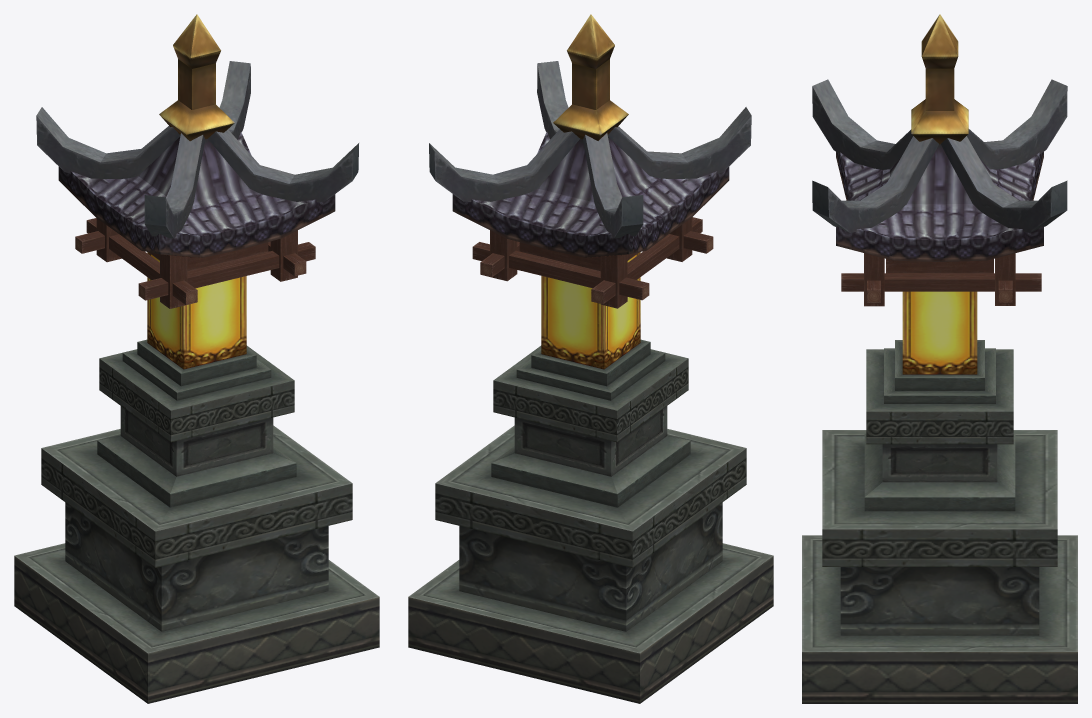
Rendered from deng_009.FBX.
The picture shows the model from 3 angles, left to right: view 1: azimuth 30°, elevation 25°; view 2: azimuth 150°, elevation 25°; view 3: azimuth 270°, elevation 25°; orthographic projection. The views are drawn at different scales.
Visible parts, largest first — view 1: deng_009_a01; view 2: deng_009_a01; view 3: deng_009_a01.
Boxes of the visible parts, x1,y1,x2,y2 form: deng_009_a01: (14, 14, 379, 703); deng_009_a01: (408, 14, 773, 703); deng_009_a01: (802, 14, 1077, 703).
Size of the model in its own units: 205 by 518 by 205.
Materials: 1 (1 with a texture image).
